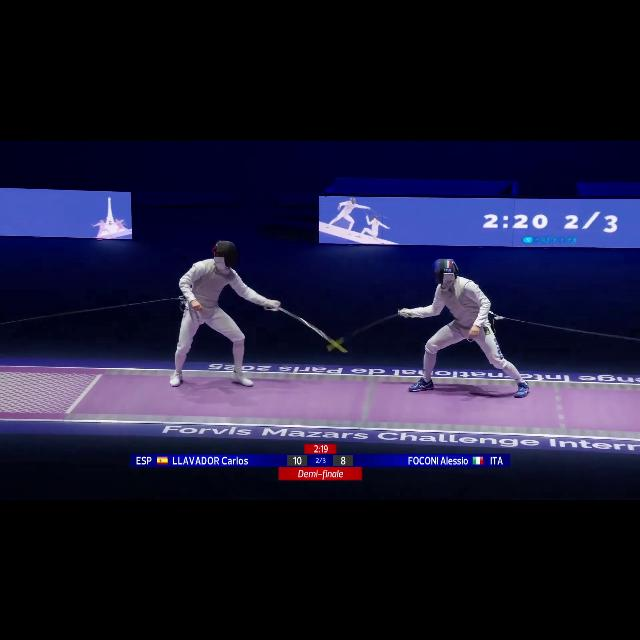blade: (326, 309, 409, 349)
